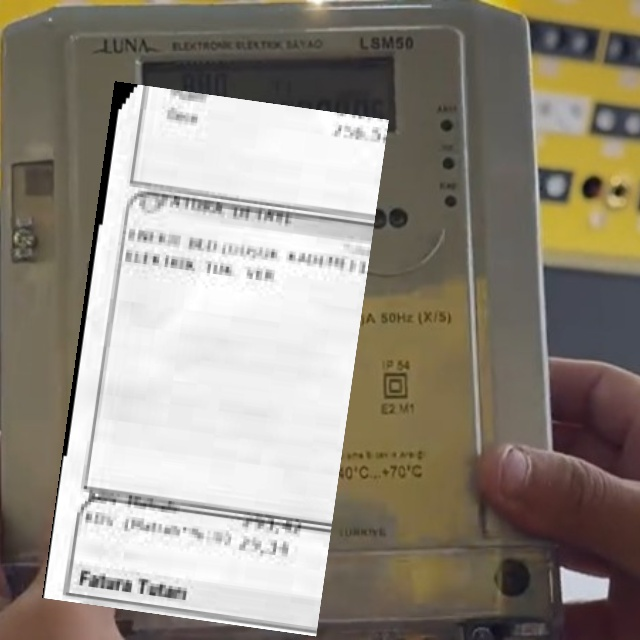electricity-bill: (42, 80, 389, 636)
